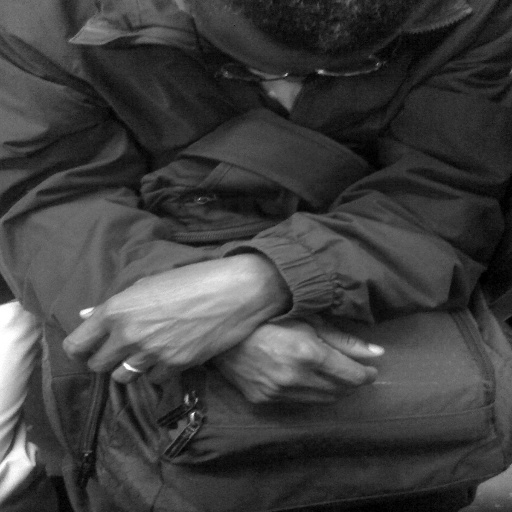hand: (49, 242, 314, 406), (208, 311, 386, 415)
